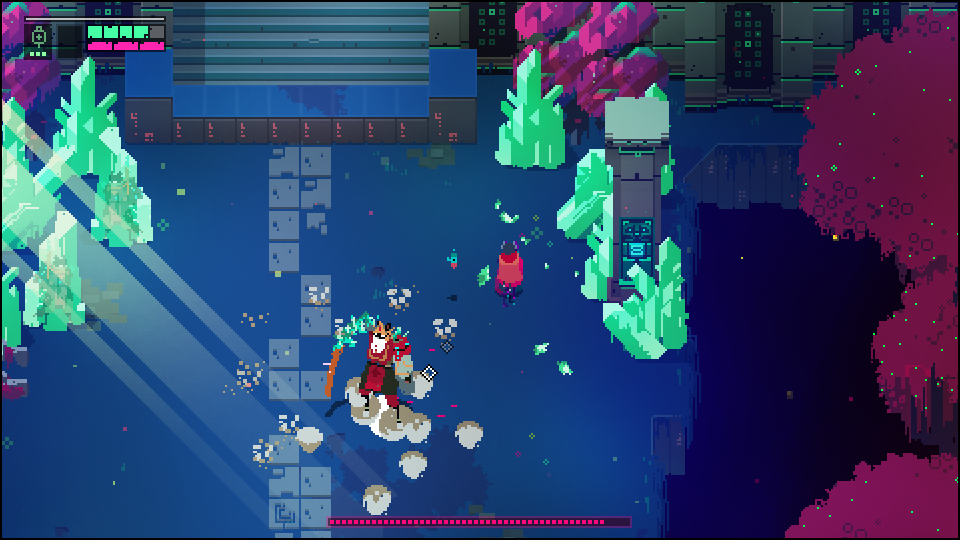hanged_man: (327, 302, 417, 415)
player: (494, 241, 528, 302)
